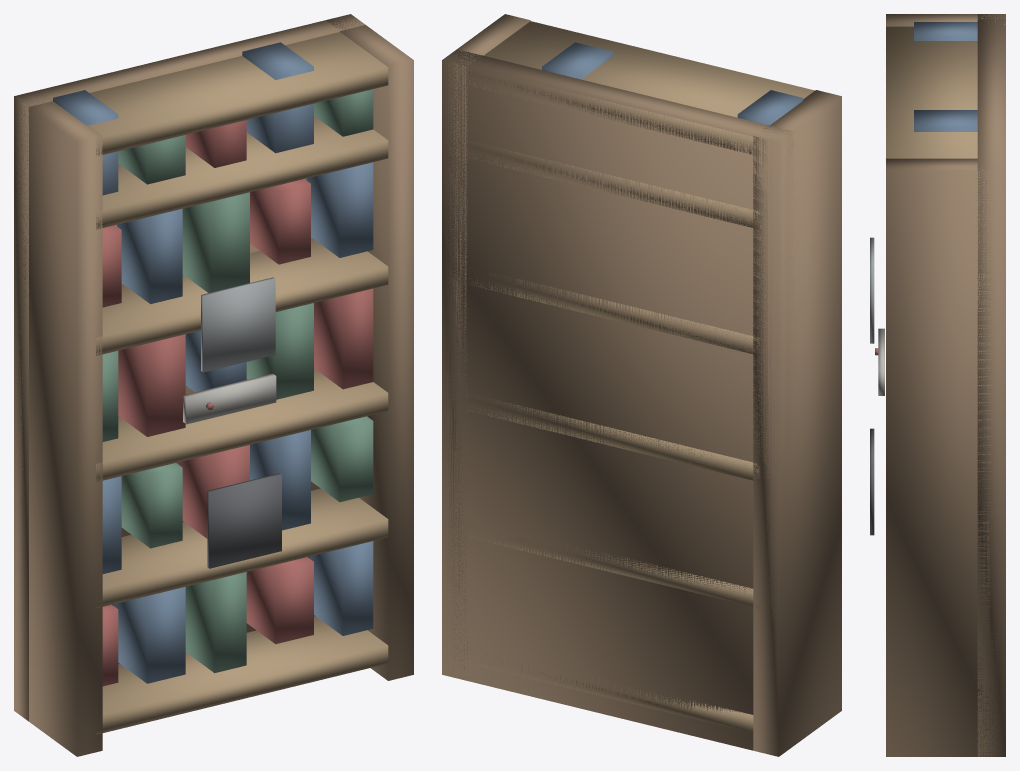
File: bookcase_bay__weathered.glb
The picture shows the model from 3 angles, left to right: view 1: azimuth 30°, elevation 25°; view 2: azimuth 150°, elevation 25°; view 3: azimuth 270°, elevation 25°; orthographic projection. The views are drawn at different scales.
Visible parts, largest first — view 1: world; view 2: world; view 3: world.
Boxes of the visible parts, x1,y1,x2,y2 form: world: (14, 14, 413, 756); world: (442, 14, 841, 756); world: (870, 14, 1005, 756).
Size of the model in its own units: 1.05 by 1.84 by 0.385.
